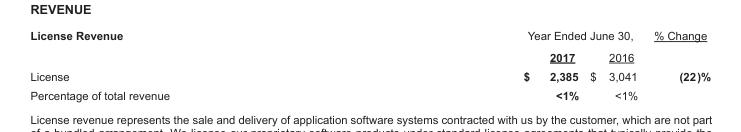table: (29, 29, 710, 101)
table column: (29, 29, 345, 101), (345, 29, 583, 101), (645, 29, 710, 101), (583, 29, 645, 101)
table column header: (29, 29, 710, 66)
table row: (29, 46, 710, 66), (29, 66, 710, 85), (29, 29, 710, 46), (29, 85, 710, 101)
table spanning cell: (29, 29, 345, 66), (345, 29, 645, 46), (645, 29, 710, 66)
